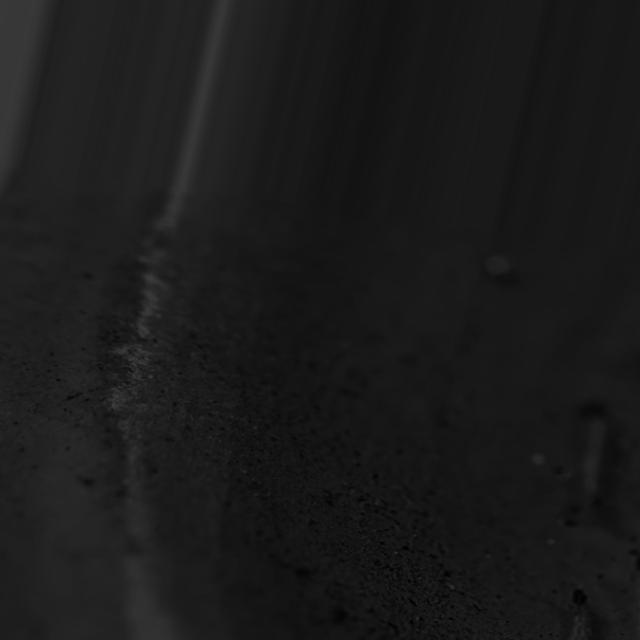larvas: (581, 396, 609, 499), (567, 581, 589, 640)
